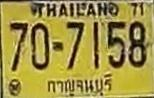0: (30, 22, 49, 69)
1: (92, 21, 98, 68)
5: (107, 21, 125, 67)
7: (8, 22, 28, 70), (66, 21, 84, 69)
8: (128, 20, 145, 66)
KRI: (45, 73, 115, 98)
